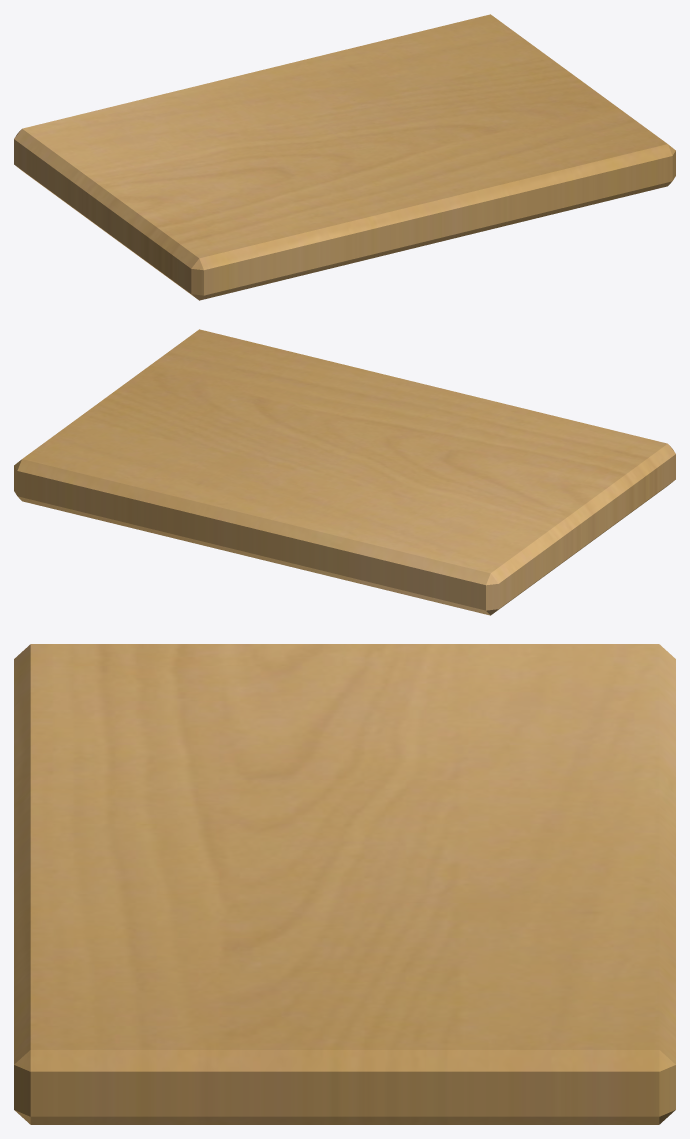
Rendered from mini_plank.glb.
3 renders of one model, top to bottom at view 1: azimuth 30°, elevation 25°; view 2: azimuth 150°, elevation 25°; view 3: azimuth 270°, elevation 25°, orthographic. The views are drawn at different scales.
Parts seen in each view (by area): view 1: Cube; view 2: Cube; view 3: Cube.
Boxes of the visible parts, <box> form: Cube: <box>14,14,675,300</box>; Cube: <box>14,329,675,615</box>; Cube: <box>14,644,675,1124</box>.
Size of the model in its own units: 6 by 0.5 by 4.
1 material, 1 textured.
